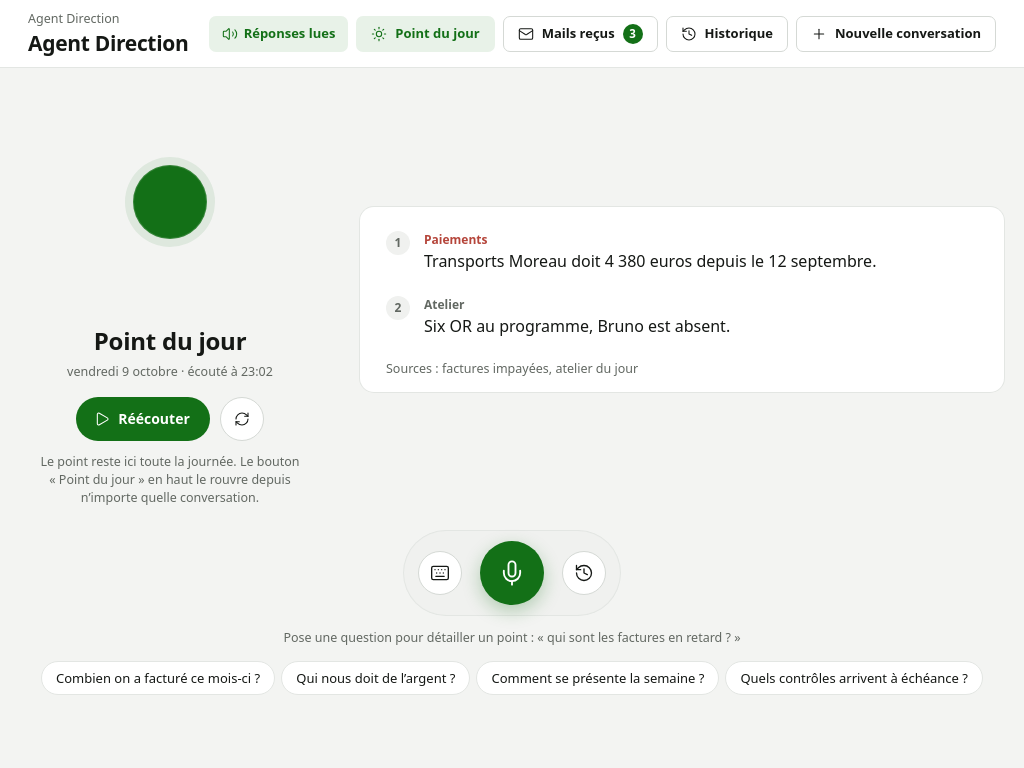
Scenario: Agent Direction › conversation reprise depuis l’historique, échanges précédents dépliables
Click the button "Historique" at point(727, 34), box [666,16,788,52]
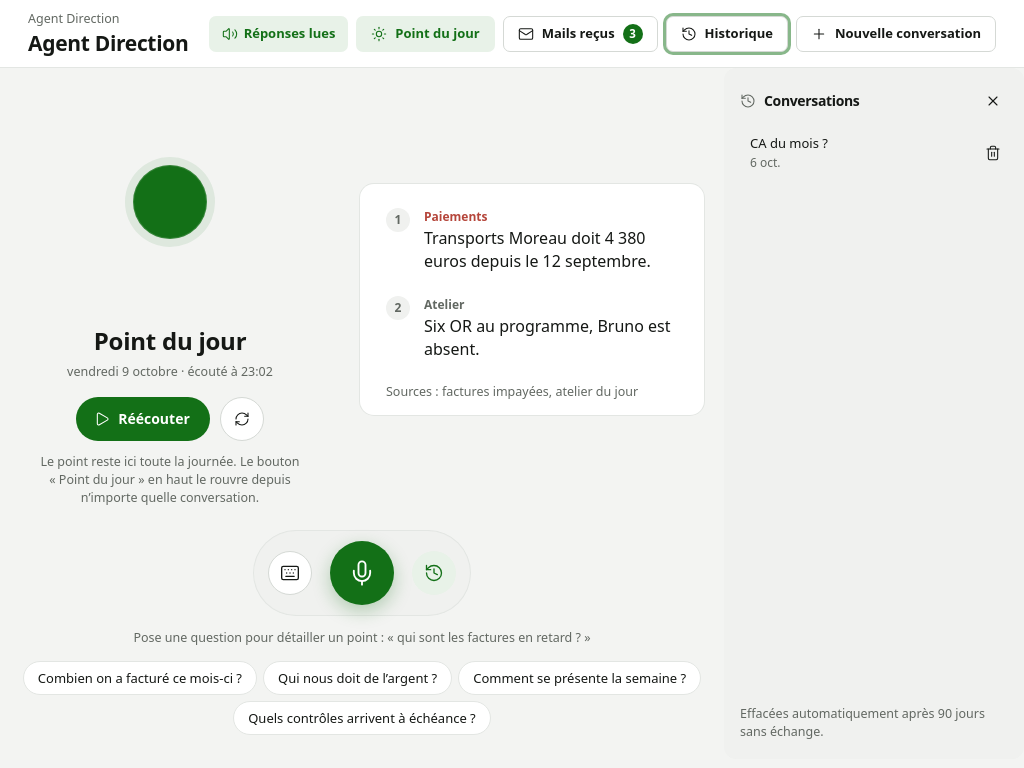
Click the button "CA du mois ? 6 oct." at point(857, 153), box [740,126,974,179]
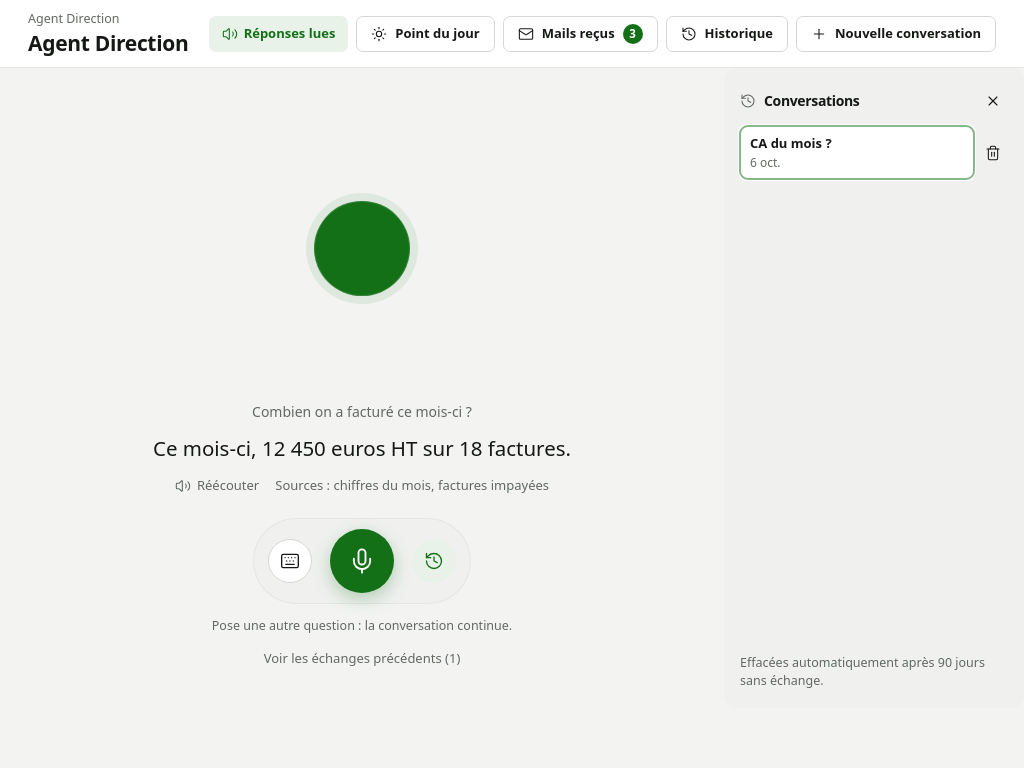
Check: the text "Premier échange." is not shown
Check: the text "Ce mois-ci, 12 450 euros HT sur 18 factures." is shown, box [153,434,571,464]
Click the button "Voir les échanges précédents (1)" at point(362, 658), box [264,649,460,668]
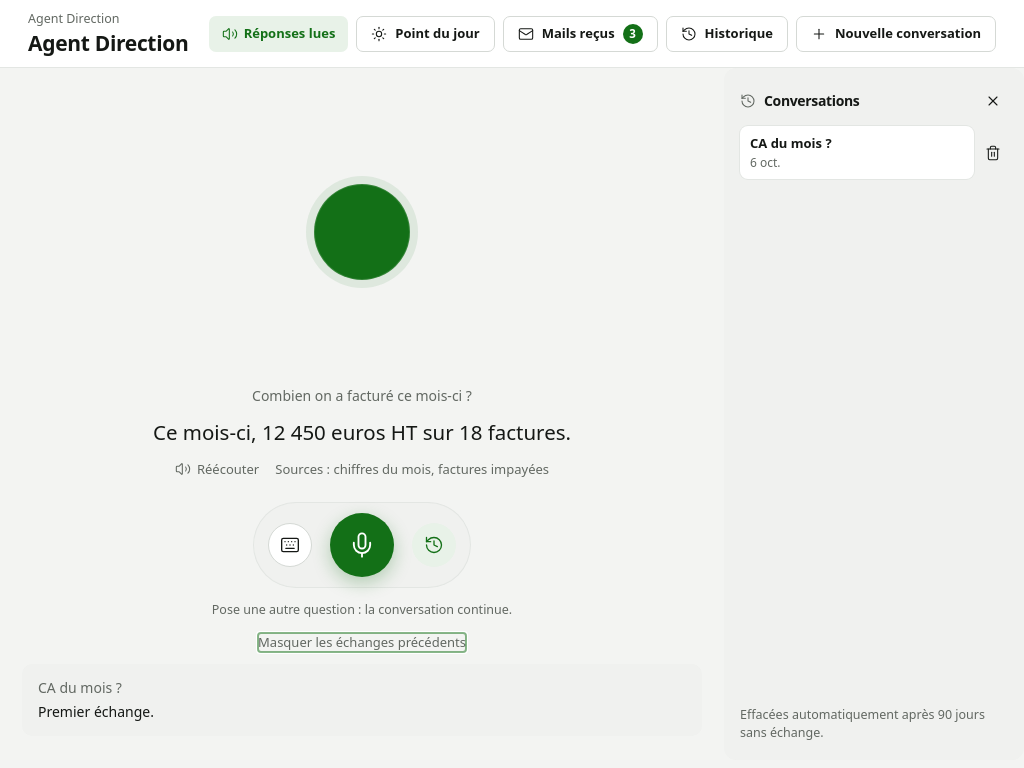
Check: the text "Premier échange." is shown, box [38,702,154,721]
